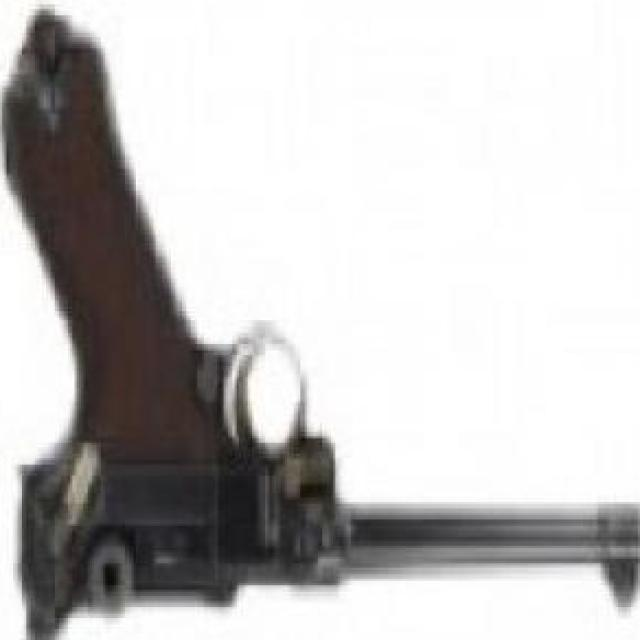pistol: (2, 0, 638, 640)
